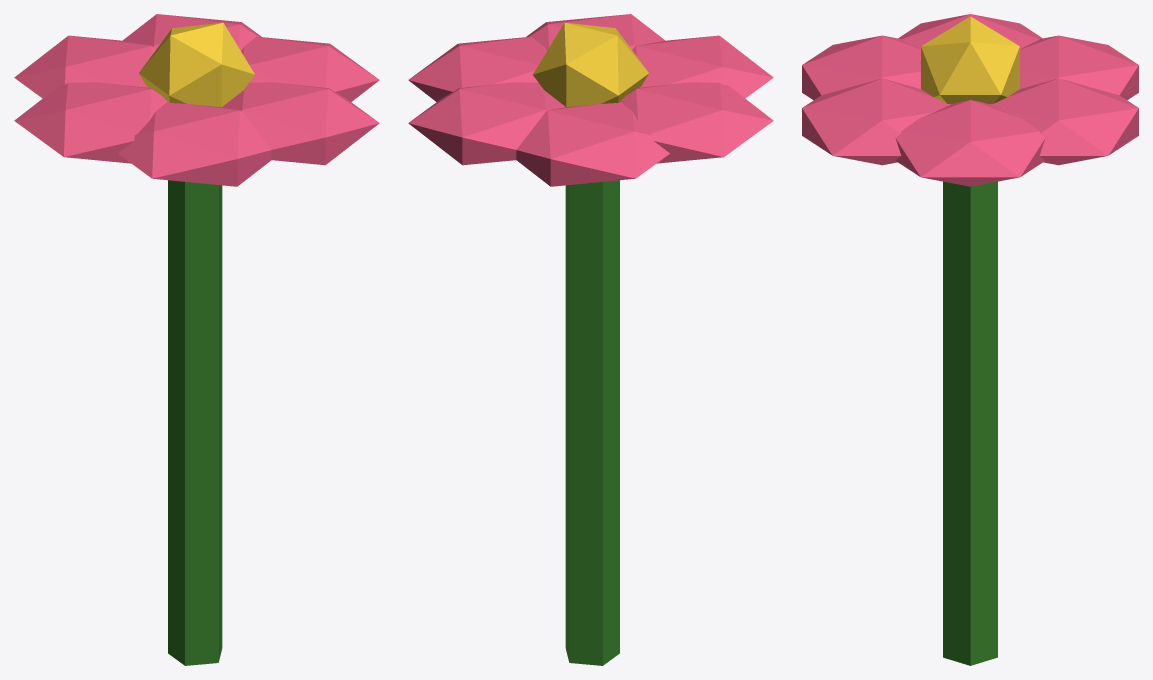
The model's file is flower.glb.
3 renders of one model, left to right at view 1: azimuth 30°, elevation 25°; view 2: azimuth 150°, elevation 25°; view 3: azimuth 270°, elevation 25°, orthographic.
Bounding box in the file's own units: 0.2506 × 0.474 × 0.2318.
